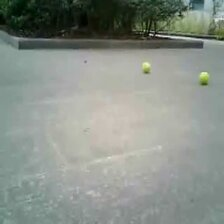tennis: (198, 71, 209, 84), (142, 61, 151, 73)
